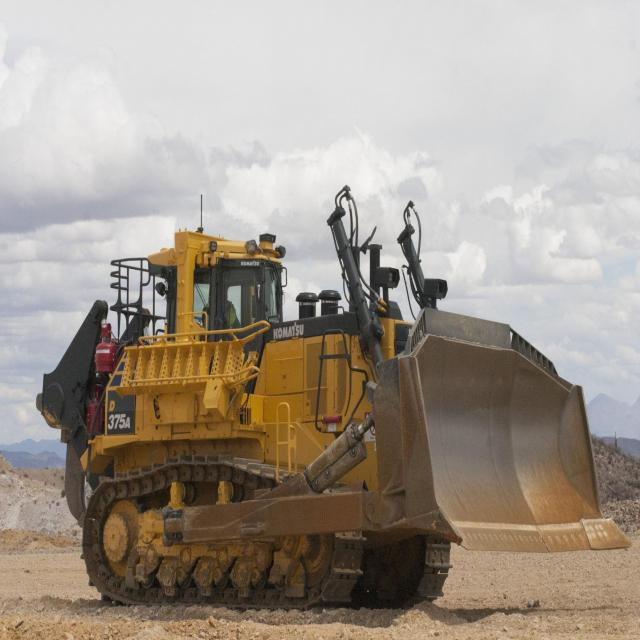Bulldozer: (20, 192, 636, 626)
